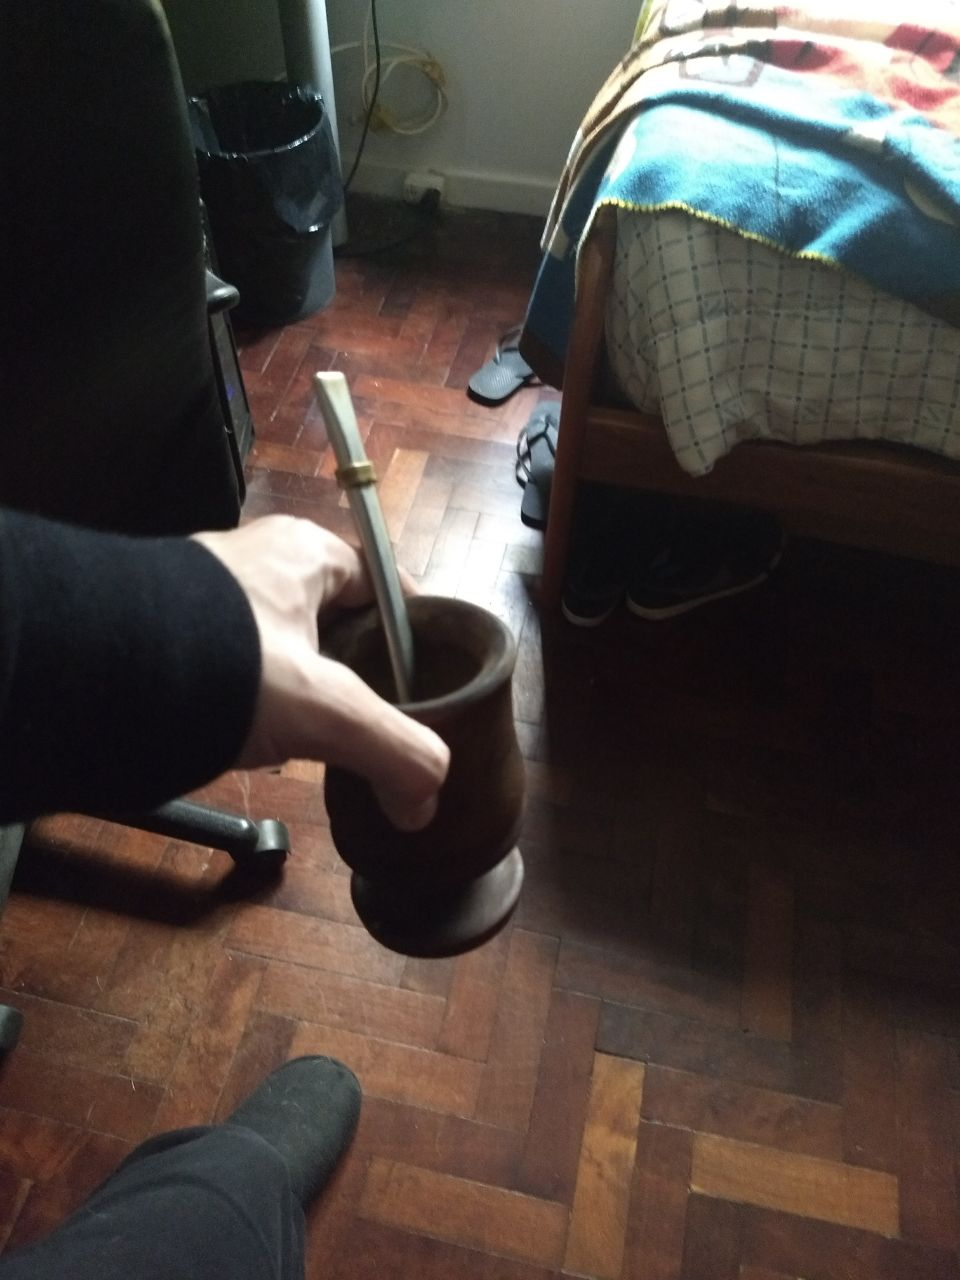madera: (309, 367, 528, 963)
mate: (311, 369, 530, 965)
